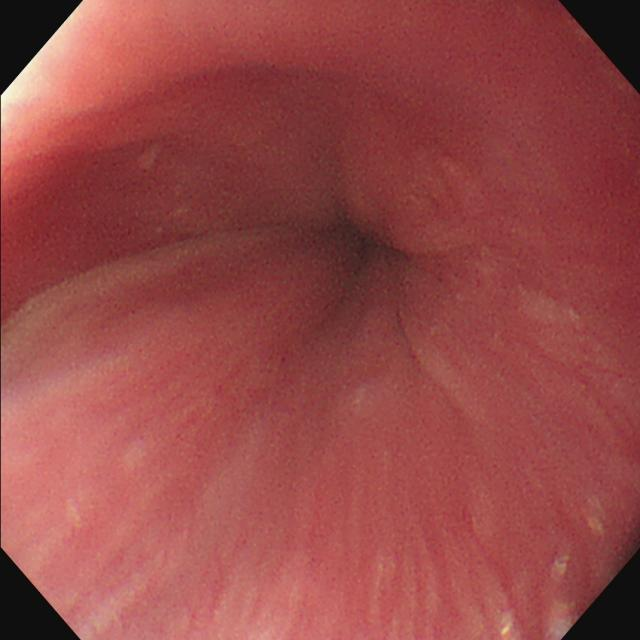I: (263, 124, 492, 363)
